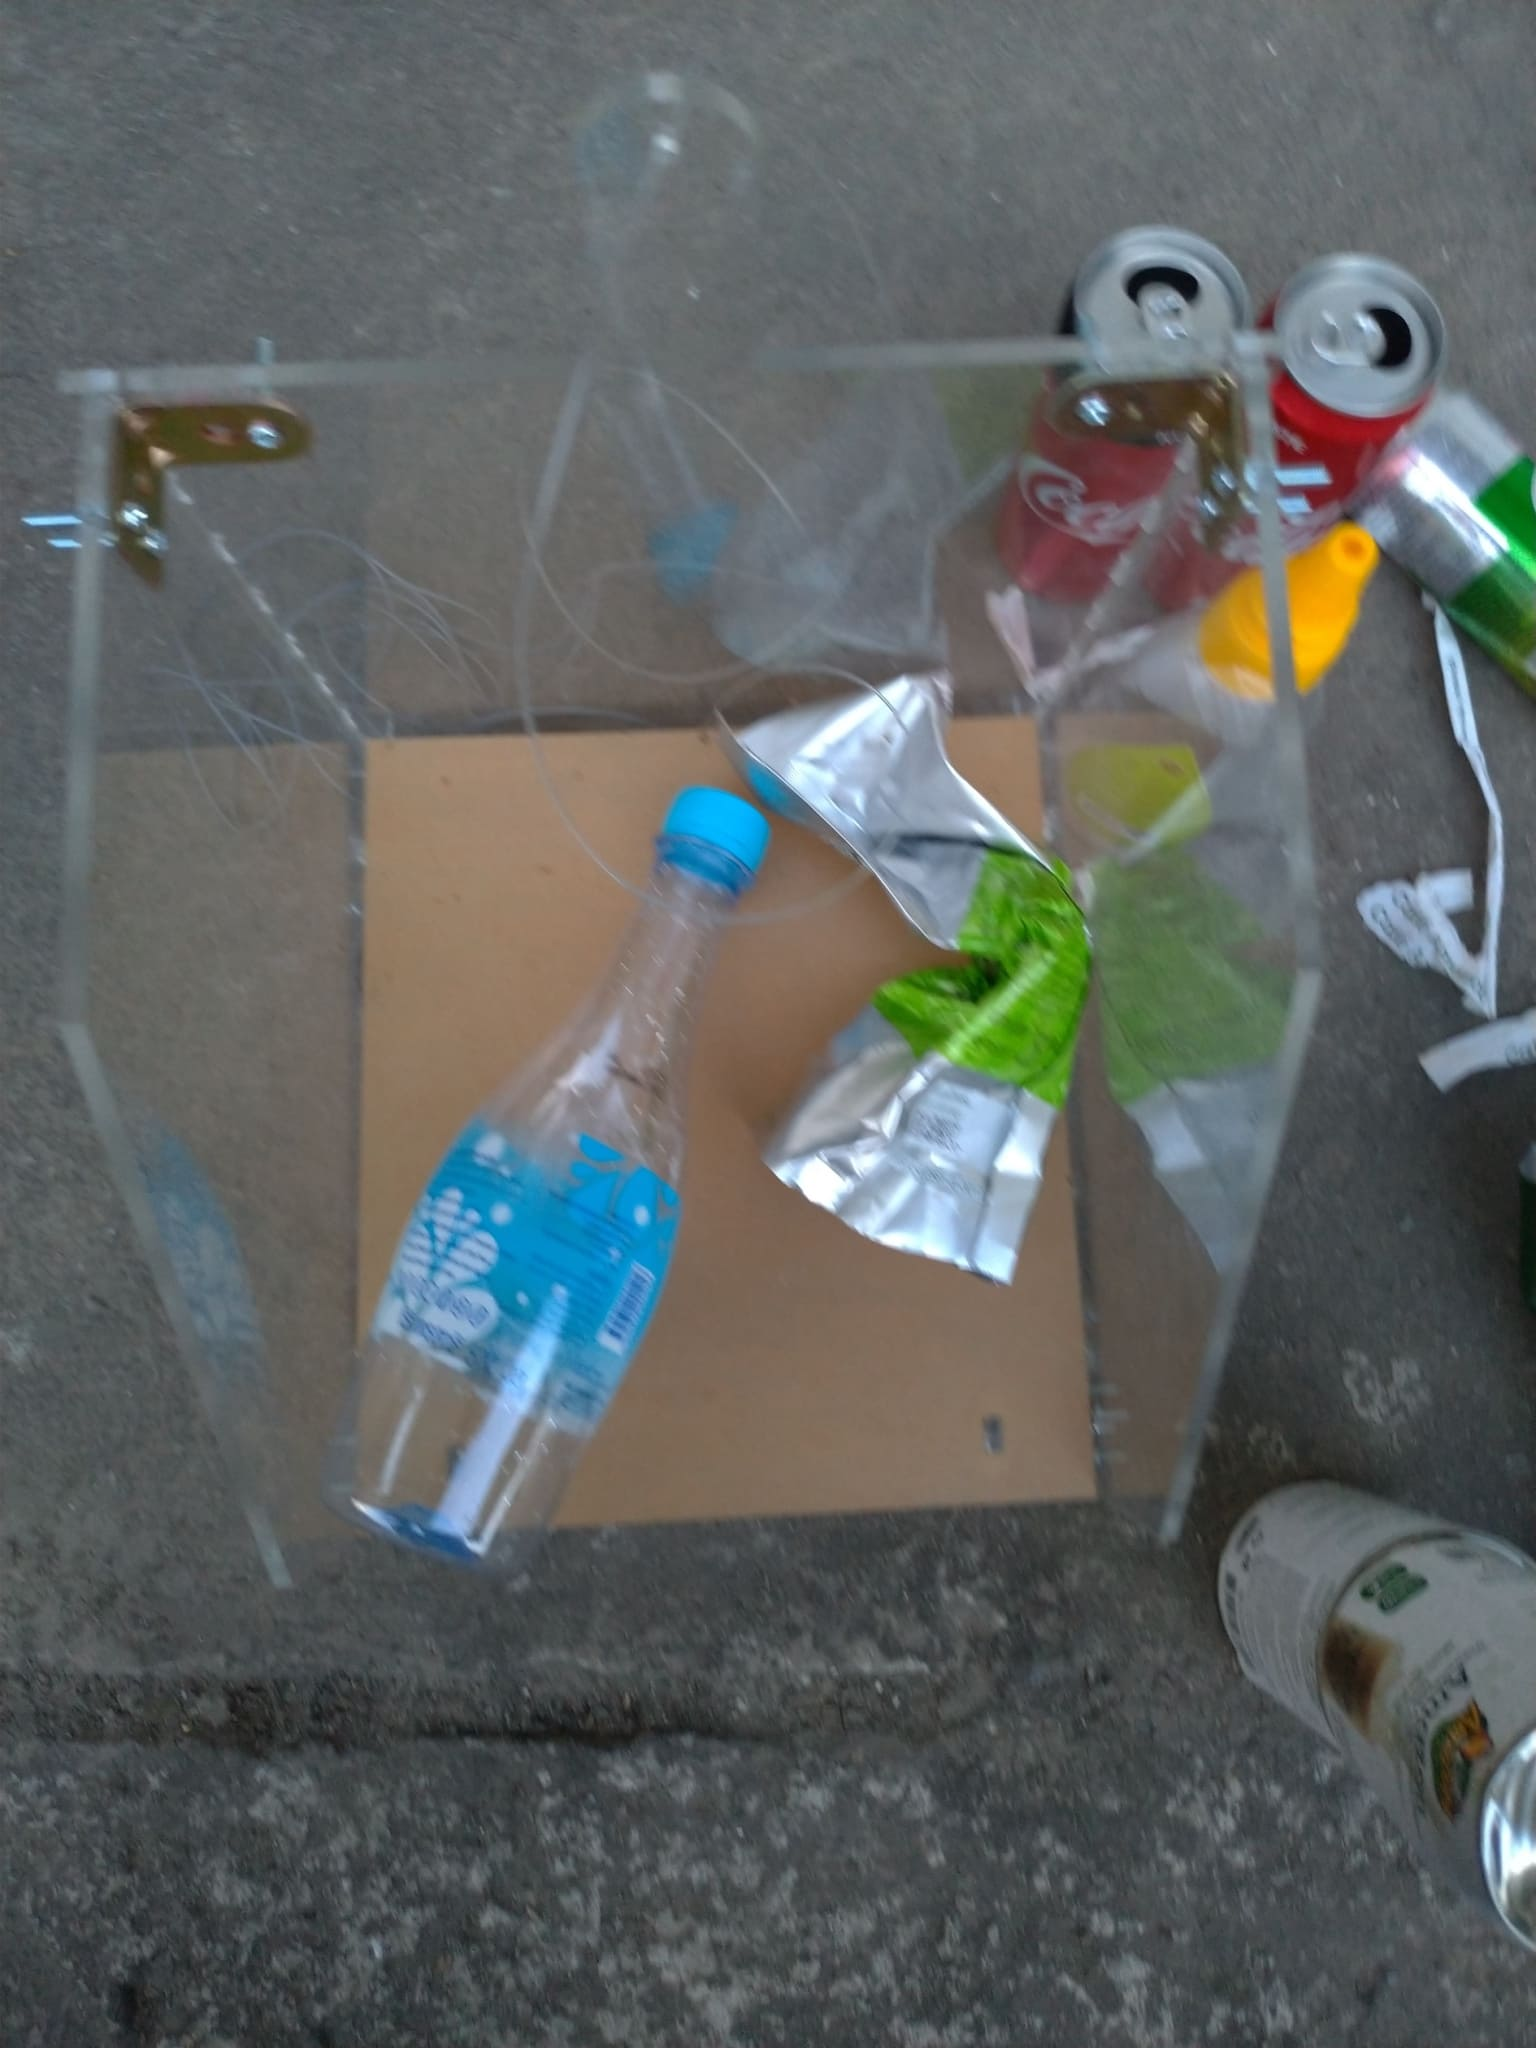AlCan: (979, 231, 1250, 611), (1234, 258, 1434, 545), (1367, 402, 1536, 677)
Others: (737, 668, 1087, 1288)
PlasticBottle: (319, 792, 786, 1561)
